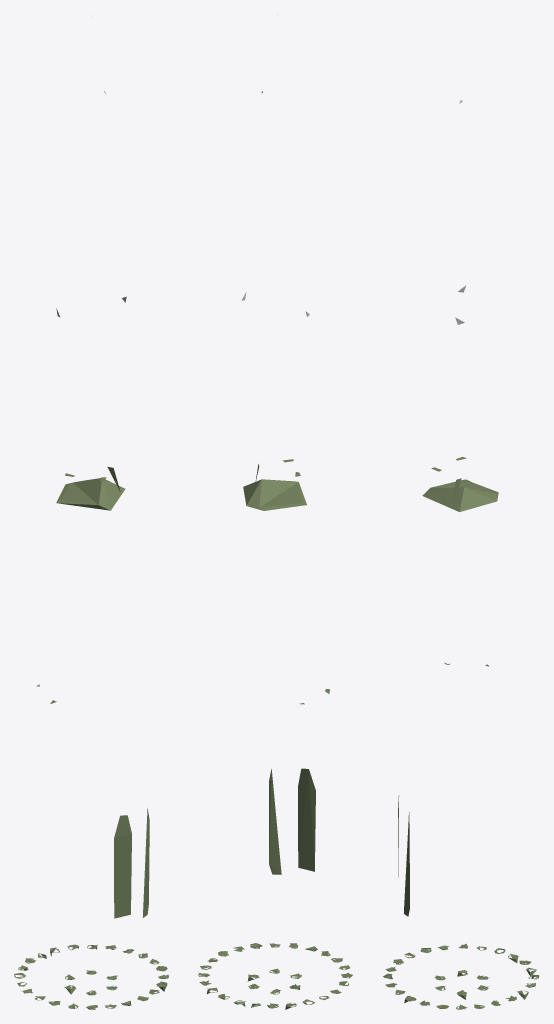
The picture shows the model from 3 angles, left to right: view 1: azimuth 30°, elevation 25°; view 2: azimuth 150°, elevation 25°; view 3: azimuth 270°, elevation 25°; orthographic projection.
Parts seen in each view (by area): view 1: Object_3; view 2: Object_3; view 3: Object_3.
Boxes of the visible parts, x1,y1,x2,y2 form: Object_3: (14,91,168,1009); Object_3: (198,91,352,1009); Object_3: (383,100,539,1009).
Size of the model in its own units: 14.88 by 103 by 15.04.
